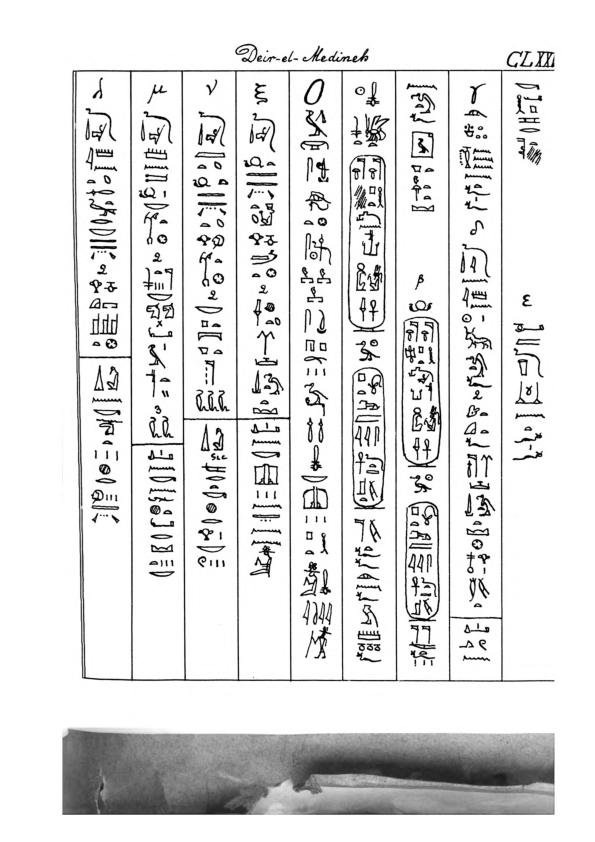circle: (347, 154, 387, 335), (402, 315, 440, 469), (349, 365, 387, 511), (403, 500, 442, 624)
